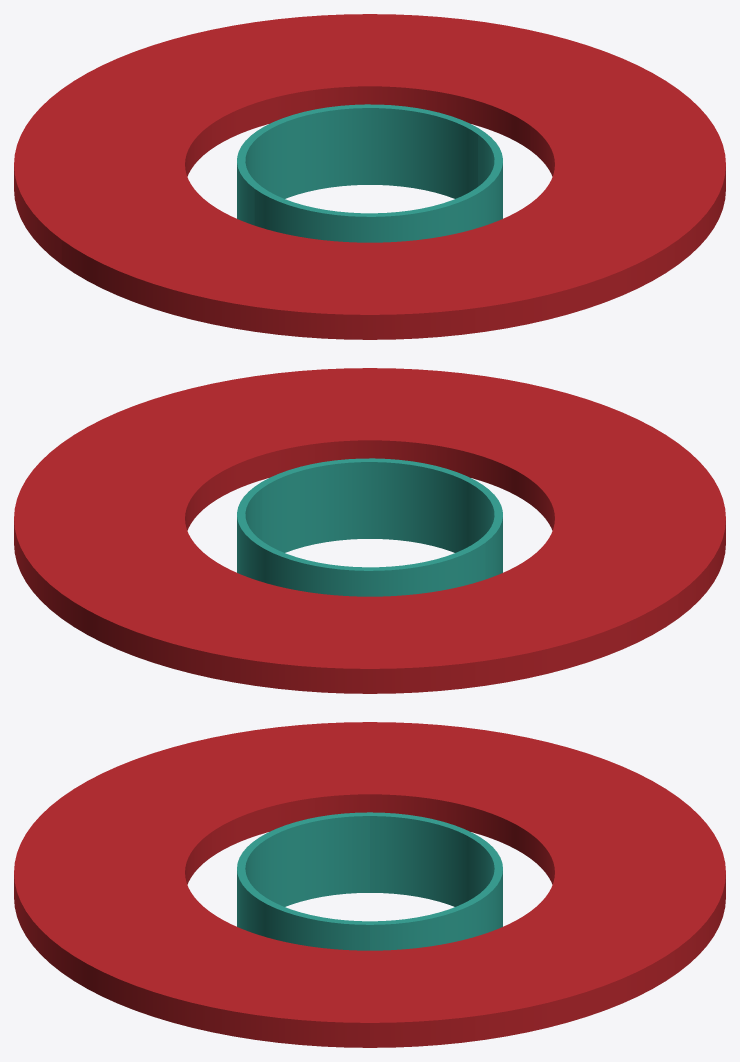
Rendered from wear_ring_pressure.glb.
3 views of the same model, one above another, from view 1: azimuth 30°, elevation 25°; view 2: azimuth 150°, elevation 25°; view 3: azimuth 270°, elevation 25° (orthographic).
Parts seen in each view (by area): view 1: pressure__back, pressure__front; view 2: pressure__front, pressure__back; view 3: pressure__back, pressure__front.
Boxes of the visible parts, <box> form: pressure__back: <box>14,14,677,264</box>; pressure__front: <box>61,89,725,339</box>; pressure__front: <box>62,368,725,618</box>; pressure__back: <box>14,443,678,693</box>; pressure__back: <box>370,722,725,1047</box>; pressure__front: <box>14,722,369,1047</box>.
Bounding box in the file's own units: 0.336 × 0.04 × 0.336.
